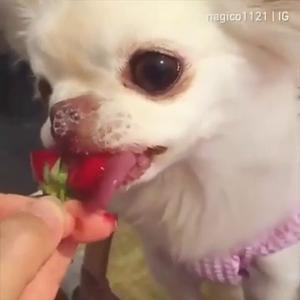nasal_discharge: (50, 100, 83, 139)
